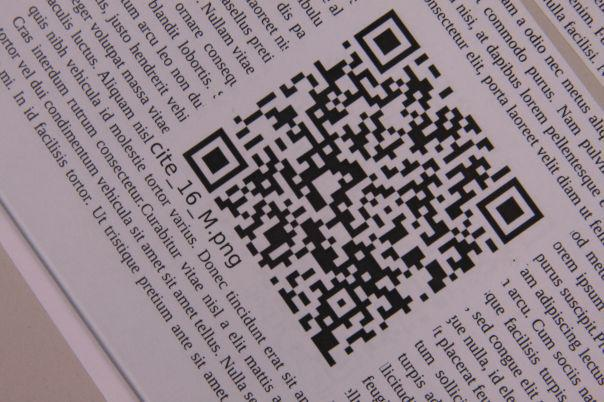Finder pattern: (476, 175, 547, 246), (184, 126, 249, 195), (355, 8, 424, 73)
